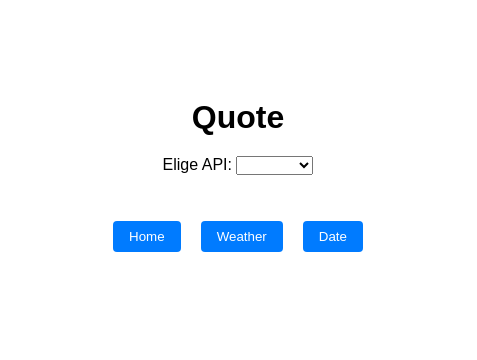
Scenario: QuoteAPI › Should render quote data from mockup
Select "Ninja Api" in the dropdown labelled "Elige API:" at point(275, 166), box top-left (236, 156), bottom-right (313, 175)
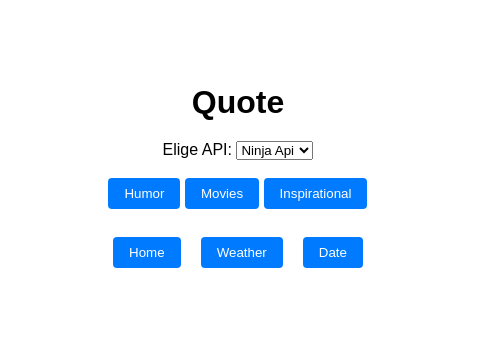
Click the button "Humor" at point(144, 193), box top-left (108, 178), bottom-right (180, 209)
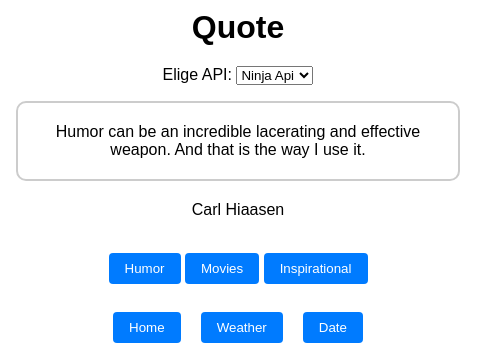
Result: the text "Humor can be an incredible lacerating and effective weapon. And that is the way I use it." is shown at top-left (56, 123), bottom-right (420, 158)
